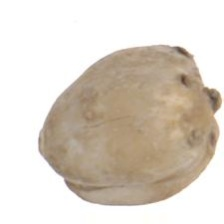L1: (193, 58, 222, 137), (38, 130, 74, 193)
L2: (37, 44, 222, 206)
